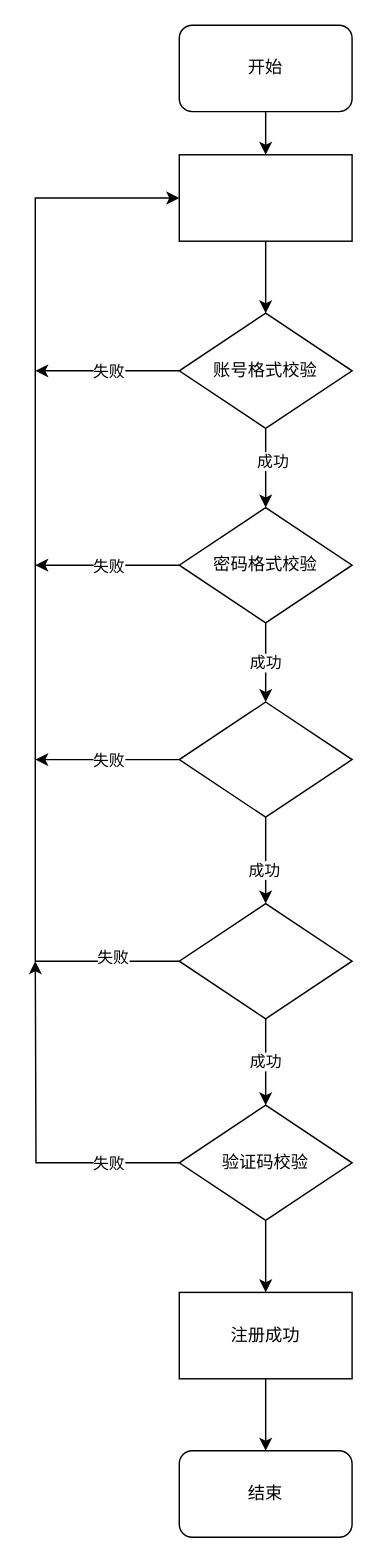
Some shapes in this 377 by 1562 pixel diagram are drawn without their labels. Here are the shapes that lost their labels. From the top down, the centre of each, then its label:
At point 265,197: "填写注册信息".
At point 265,759: "重复密码校验".
At point 265,960: "邮箱校验".
